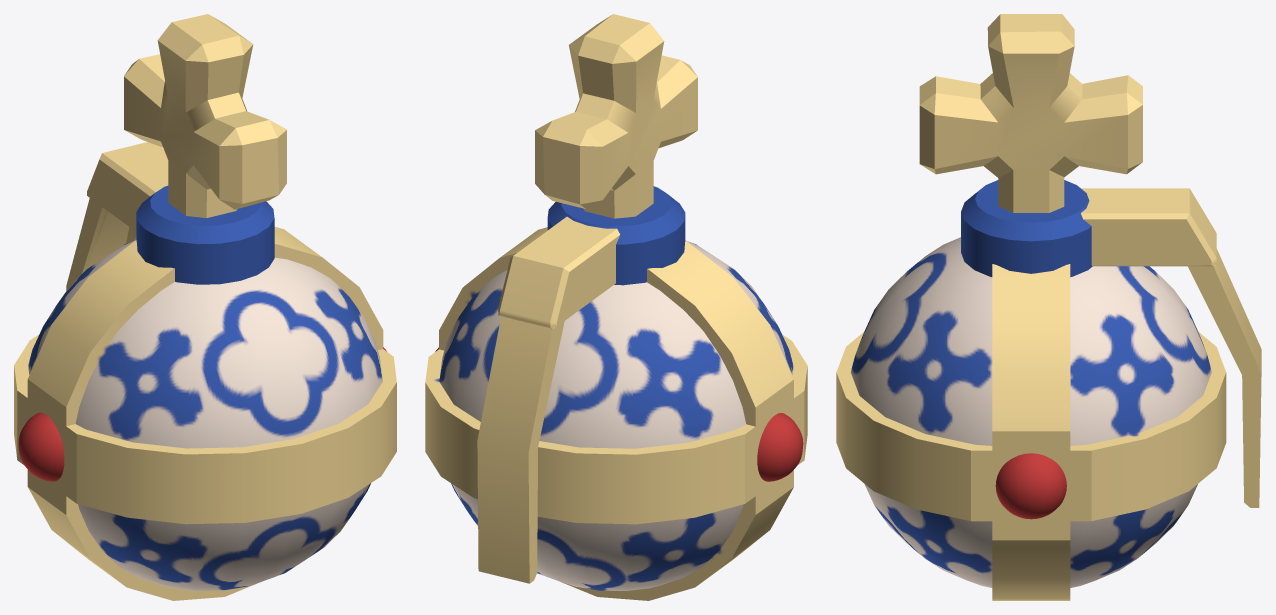
The model's file is bombe.fbx.
3 renders of one model, left to right at view 1: azimuth 30°, elevation 25°; view 2: azimuth 150°, elevation 25°; view 3: azimuth 270°, elevation 25°, orthographic.
Parts seen in each view (by area): view 1: bomb1:polySurface1; view 2: bomb1:polySurface1; view 3: bomb1:polySurface1.
Boxes of the visible parts, box(x1,y1,x2,y2) form: bomb1:polySurface1: box(14, 14, 396, 600); bomb1:polySurface1: box(425, 14, 807, 600); bomb1:polySurface1: box(836, 14, 1261, 600).
Bounding box in the file's own units: 32.28 × 46.77 × 32.12.
Materials: 1 (1 with a texture image).
